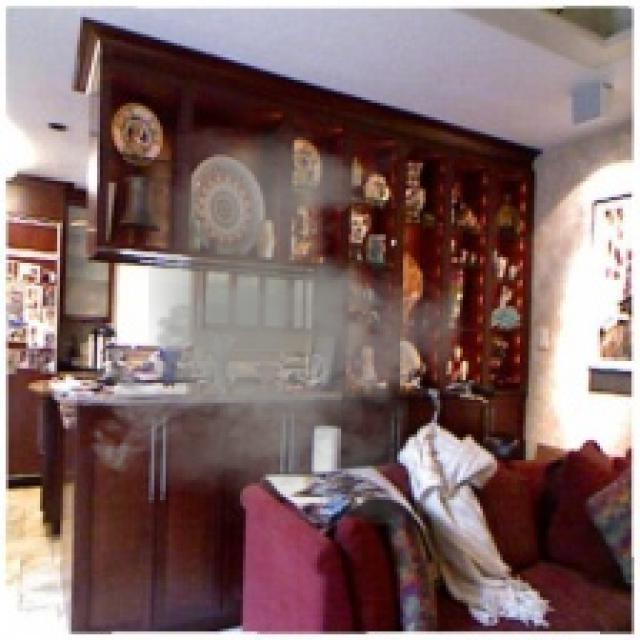Smoke: (77, 125, 480, 526)
